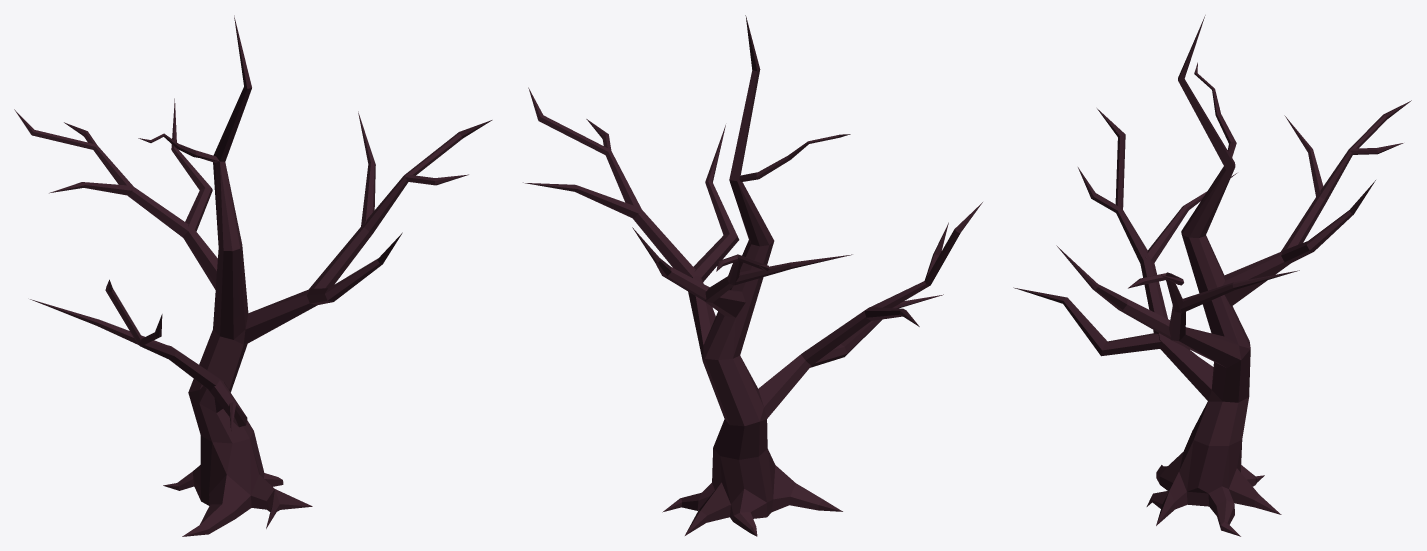
The model's file is tree.09deba4f.glb.
3 renders of one model, left to right at view 1: azimuth 30°, elevation 25°; view 2: azimuth 150°, elevation 25°; view 3: azimuth 270°, elevation 25°, orthographic.
Visible parts, largest first — view 1: Tree; view 2: Tree; view 3: Tree.
Boxes of the visible parts, <box> form: Tree: <box>14,15,492,536</box>; Tree: <box>523,15,982,536</box>; Tree: <box>1013,15,1411,536</box>.
Size of the model in its own units: 5.46 by 6.06 by 4.46.
